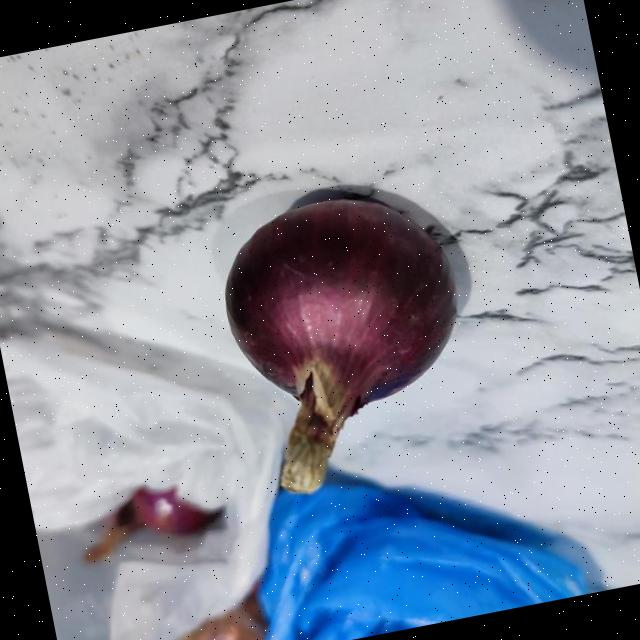Onion: (224, 197, 455, 492)
